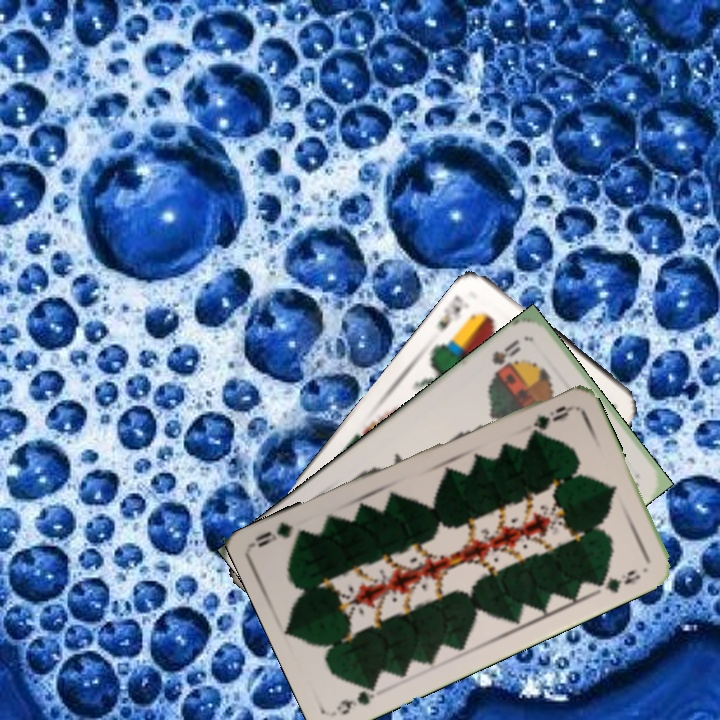EK: (434, 291, 472, 335)
G9: (331, 678, 381, 718), (529, 401, 575, 430)
SO: (487, 335, 524, 378)
